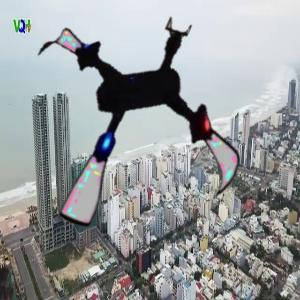drone: (12, 6, 253, 247)
